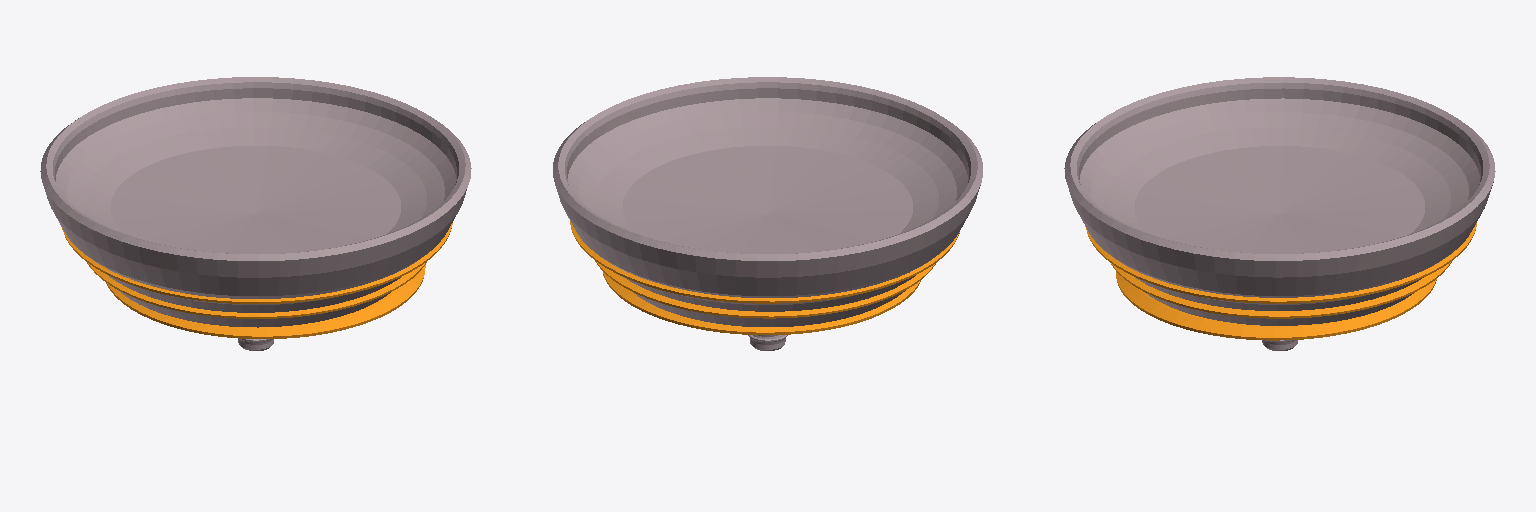
The model's file is FlaredBranchingSection.obj.
The picture shows the model from 3 angles: view 1: azimuth 30°, elevation 25°; view 2: azimuth 150°, elevation 25°; view 3: azimuth 270°, elevation 25°; orthographic projection.
Parts seen in each view (by area): view 1: FlareTOWER; view 2: FlareTOWER; view 3: FlareTOWER.
Part boxes in pixels (bbox=[...]): FlareTOWER: bbox=[40, 77, 471, 350]; FlareTOWER: bbox=[553, 77, 982, 350]; FlareTOWER: bbox=[1064, 77, 1495, 350].
Size of the model in its own units: 9.57 by 4.43 by 9.57.